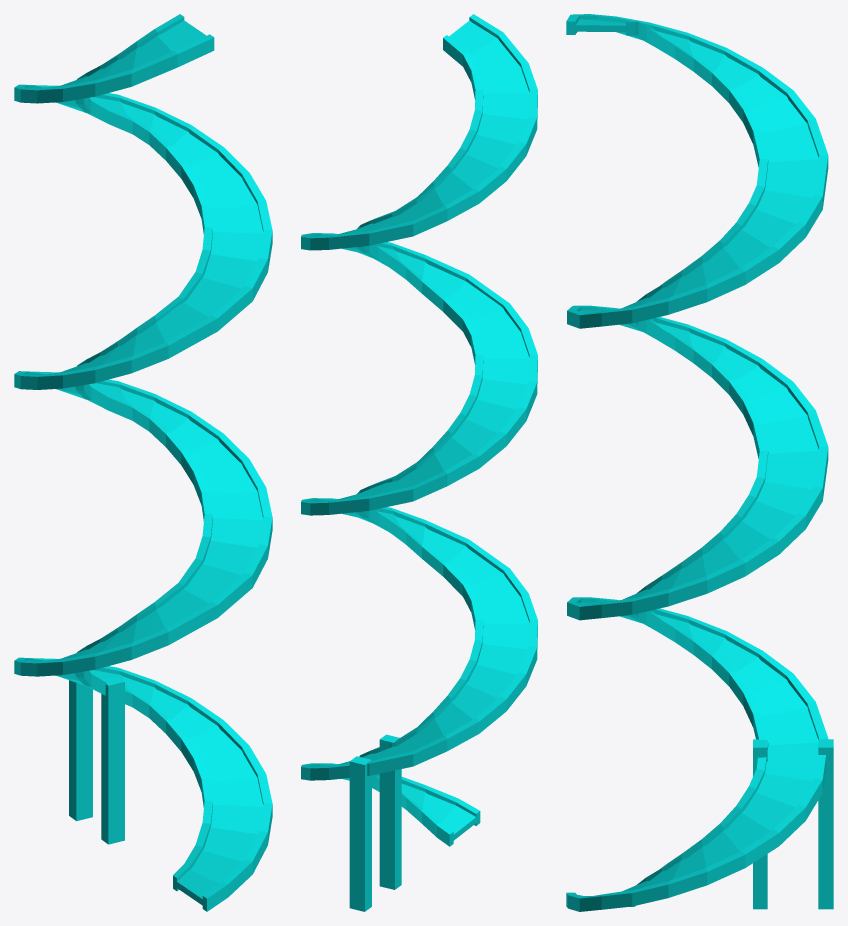
Rendered from SM_Bld_Lighthouse_01_Insert_01_Collision.fbx.
The picture shows the model from 3 angles, left to right: view 1: azimuth 30°, elevation 25°; view 2: azimuth 150°, elevation 25°; view 3: azimuth 270°, elevation 25°; orthographic projection. The views are drawn at different scales.
Visible parts, largest first — view 1: SM_Bld_Lighthouse_01_Insert_01_Collision; view 2: SM_Bld_Lighthouse_01_Insert_01_Collision; view 3: SM_Bld_Lighthouse_01_Insert_01_Collision.
Part boxes in pixels (bbox=[...]): SM_Bld_Lighthouse_01_Insert_01_Collision: bbox=[14, 14, 272, 911]; SM_Bld_Lighthouse_01_Insert_01_Collision: bbox=[301, 14, 537, 911]; SM_Bld_Lighthouse_01_Insert_01_Collision: bbox=[566, 14, 833, 911].
Size of the model in its own units: 485 by 1830 by 499.
